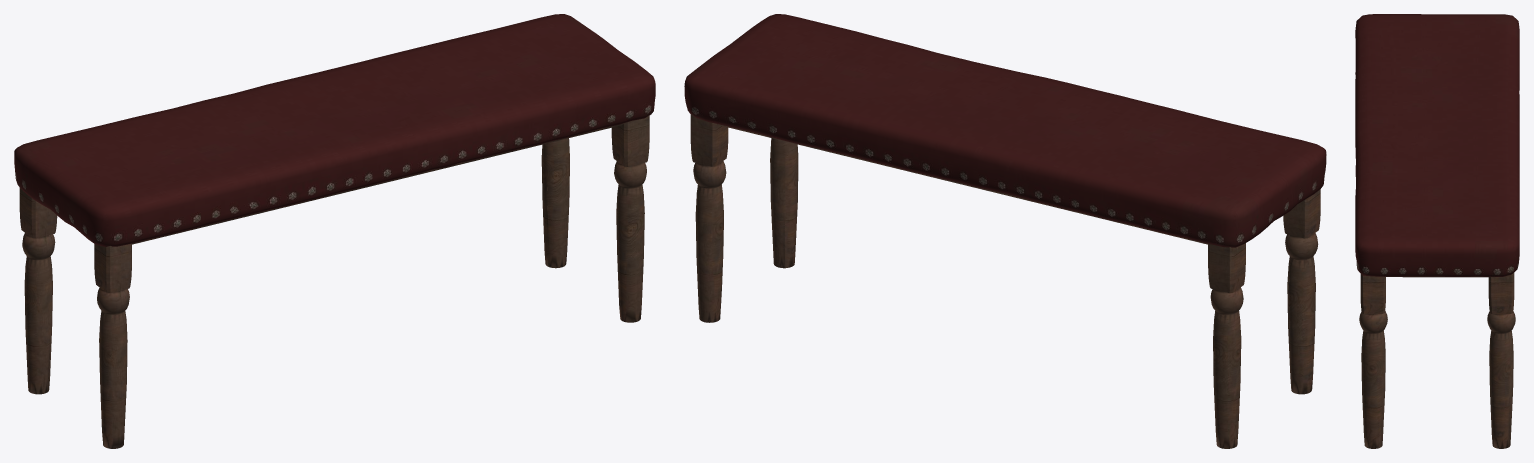
The model's file is antique_bench.glb.
3 renders of one model, left to right at view 1: azimuth 30°, elevation 25°; view 2: azimuth 150°, elevation 25°; view 3: azimuth 270°, elevation 25°, orthographic. The views are drawn at different scales.
Parts seen in each view (by area): view 1: mesh_fabric_low_mat_test_2_0, mesh_wood_low_mat_test_1_0; view 2: mesh_fabric_low_mat_test_2_0, mesh_wood_low_mat_test_1_0; view 3: mesh_fabric_low_mat_test_2_0, mesh_wood_low_mat_test_1_0.
Part boxes in pixels (bbox=[...]): mesh_fabric_low_mat_test_2_0: bbox=[14, 14, 655, 246]; mesh_wood_low_mat_test_1_0: bbox=[19, 115, 649, 448]; mesh_fabric_low_mat_test_2_0: bbox=[684, 14, 1326, 247]; mesh_wood_low_mat_test_1_0: bbox=[690, 114, 1320, 448]; mesh_fabric_low_mat_test_2_0: bbox=[1355, 14, 1519, 276]; mesh_wood_low_mat_test_1_0: bbox=[1359, 272, 1515, 448].
Bounding box in the file's own units: 434 × 180 × 128.
Materials: 2 (2 with a texture image).
